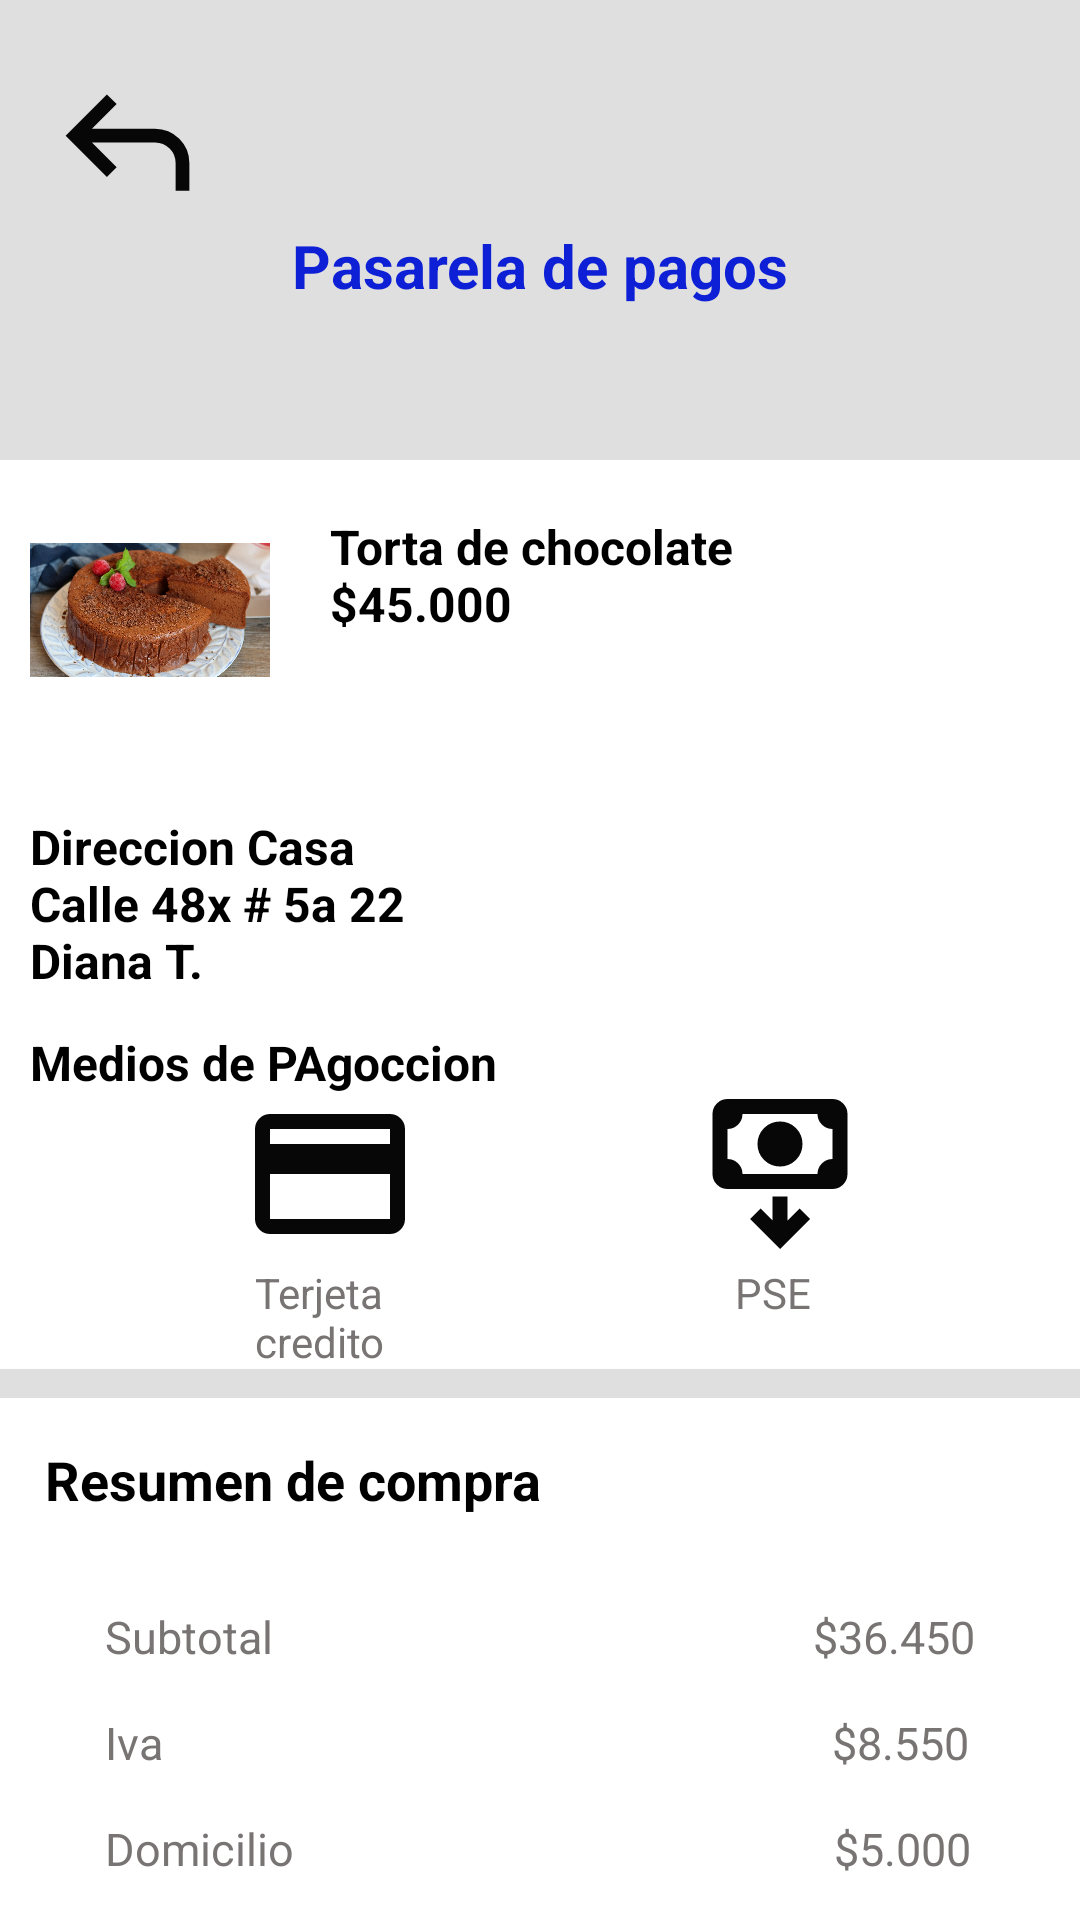

Screen size 1080x1920. Icon name, then its center in pixels as (x=x, y=y):
Imagen del producto: (x=150, y=610)
regresar: (x=127, y=142)
